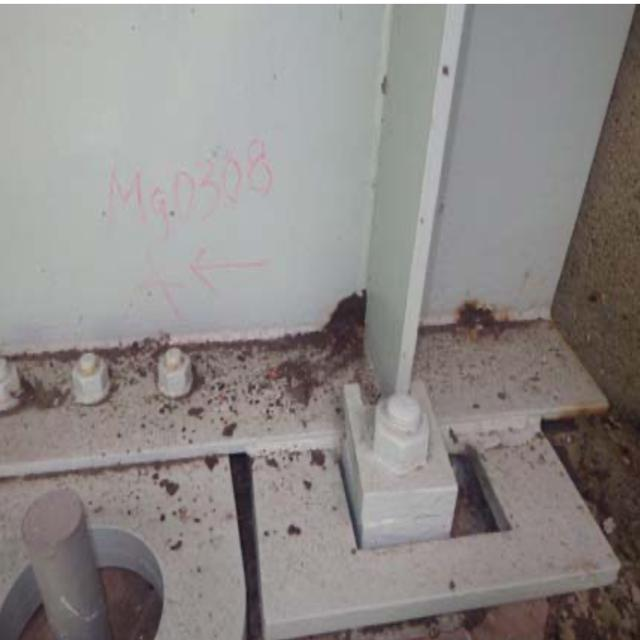corrosion: (6, 278, 374, 388), (456, 289, 521, 354)
